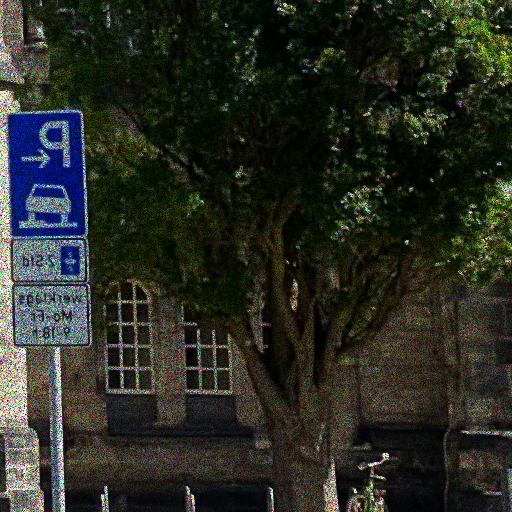tree: (11, 1, 511, 511)
